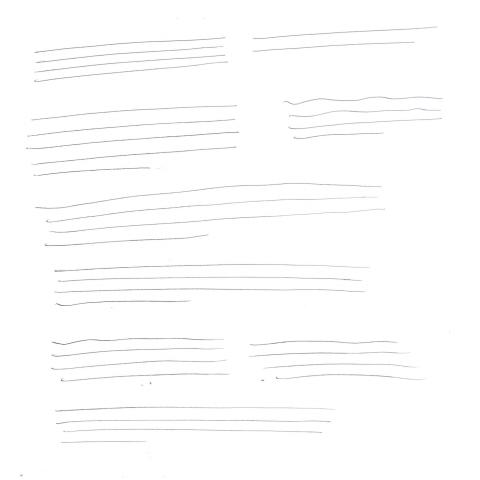Paragraph: (36, 182, 388, 249), (24, 104, 245, 180), (56, 264, 370, 309), (55, 406, 336, 446), (32, 37, 230, 85), (49, 338, 234, 384), (246, 340, 423, 381), (282, 97, 446, 140), (252, 26, 441, 54)
